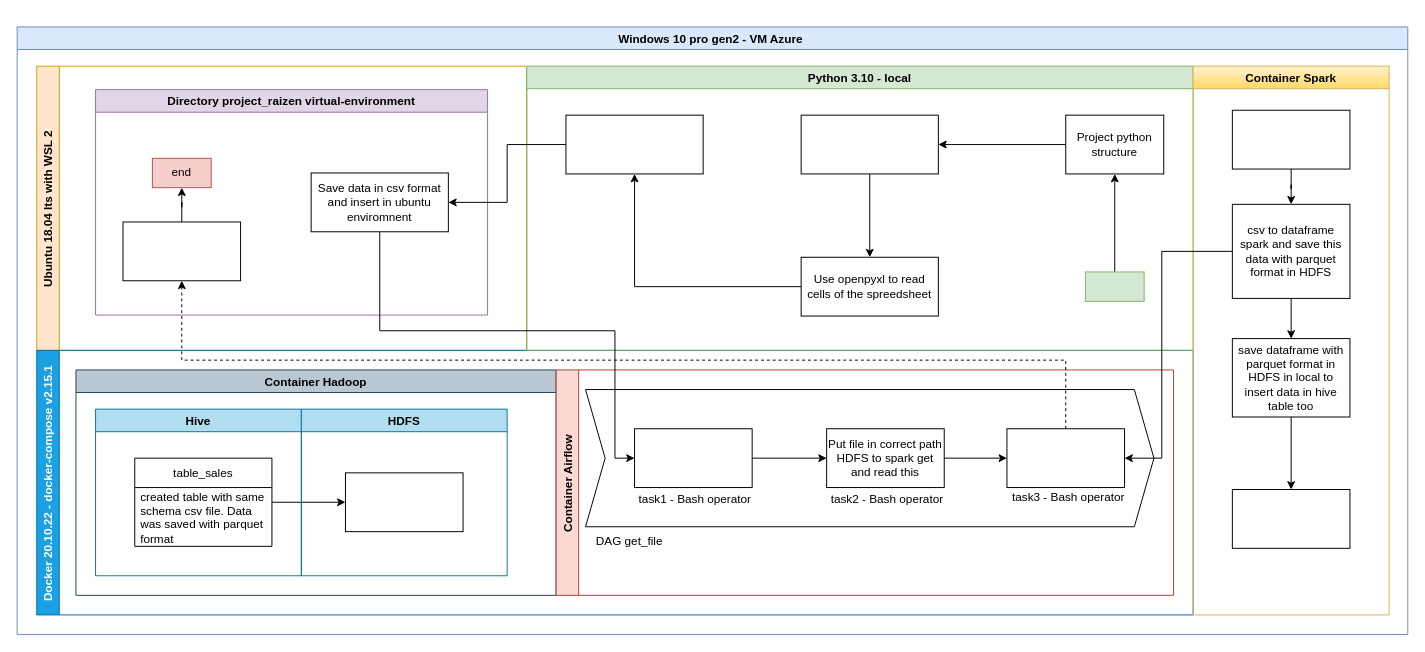
The diagram is 1425 pixels wide and 652 high, and some of its shapes have lost their labels. The centre of each missing label's shape, as x and y in pixels:
"Build a data structure(list) to get structure of data certain" belongs at (x=634, y=144).
"Command load data and msck repair to refresh data in hive table" belongs at (x=1290, y=518).
"Get file parquet in HDFS and put in local directory" belongs at (x=1065, y=458).
"Parquet format" belongs at (x=403, y=502).
"Read file .xls and convert to .xlsx format" belongs at (x=869, y=144).
"Saved data with parquet format" belongs at (x=181, y=251).
"Script pyspark read file csv" belongs at (x=1290, y=139).
"start" belongs at (x=1114, y=286).
"Verify that csv file refreshed in directory project_raizen" belongs at (x=693, y=458).
